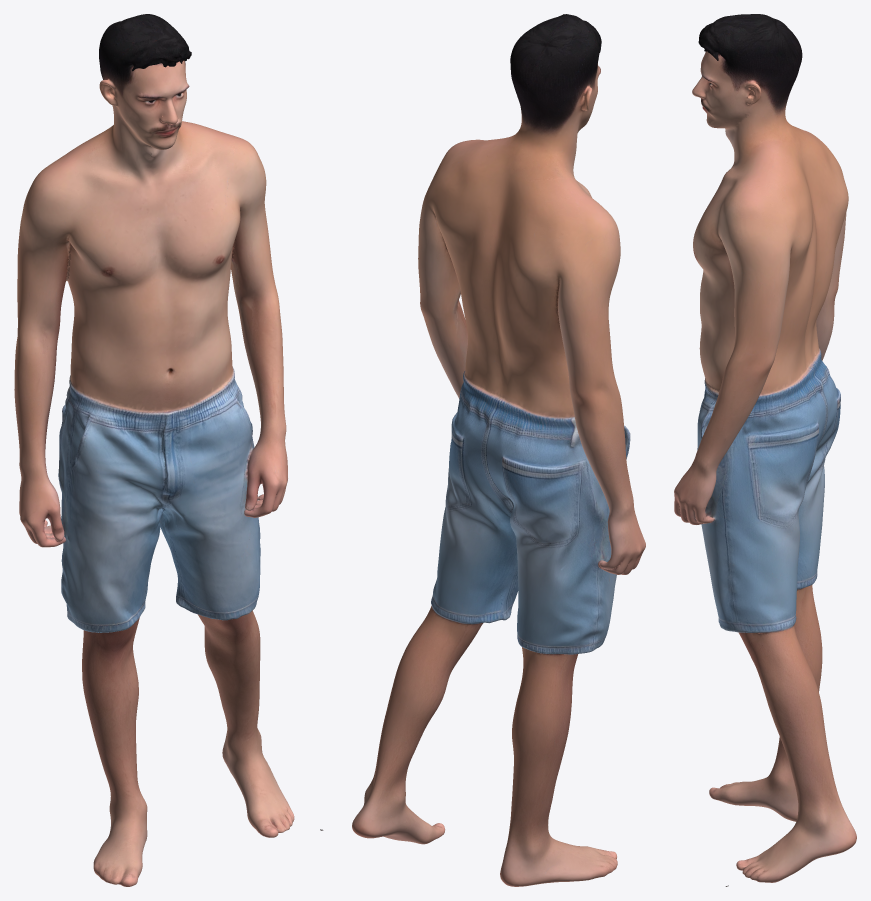
File: Homem-shorts.glb
3 renders of one model, left to right at view 1: azimuth 30°, elevation 25°; view 2: azimuth 150°, elevation 25°; view 3: azimuth 270°, elevation 25°, orthographic. The views are drawn at different scales.
Visible parts, largest first — view 1: Object_5, Object_6; view 2: Object_5, Object_6; view 3: Object_5, Object_6.
Part boxes in pixels (left/top/right/bottom): Object_5: left=14, top=14, right=289, bottom=884; Object_6: left=25, top=23, right=323, bottom=886; Object_5: left=352, top=17, right=645, bottom=886; Object_6: left=418, top=14, right=645, bottom=877; Object_5: left=674, top=14, right=856, bottom=882; Object_6: left=693, top=16, right=789, bottom=886.
Bounding box in the file's own units: 0.6375 × 1.9 × 0.3967.
1 material, 1 textured.
